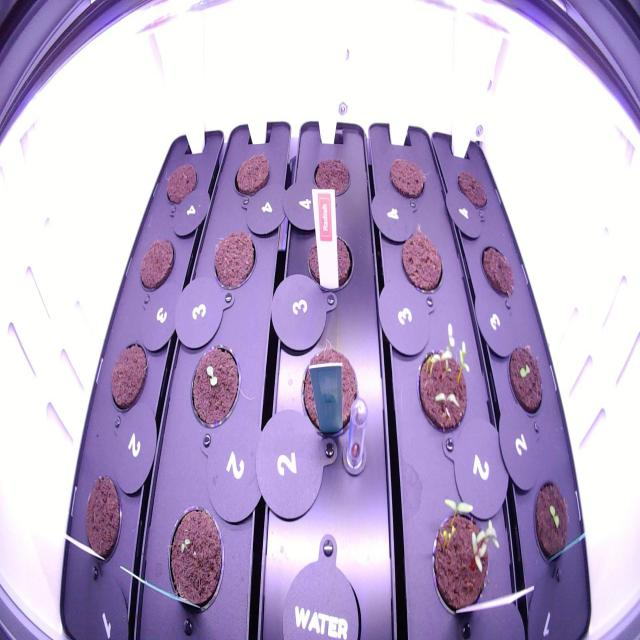germination: (428, 489, 502, 628), (414, 321, 475, 442), (161, 502, 226, 614), (186, 340, 243, 433), (526, 476, 574, 584), (505, 340, 546, 418)
pod: (297, 341, 361, 446), (80, 470, 126, 580), (106, 332, 152, 422), (305, 224, 356, 302), (397, 224, 446, 302), (211, 227, 259, 296), (136, 232, 178, 301), (477, 242, 518, 302), (229, 147, 273, 200), (386, 150, 428, 204), (311, 152, 353, 203), (163, 158, 199, 212), (454, 161, 489, 210)
